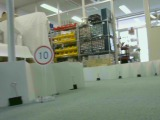speed_10: (31, 45, 55, 65)
